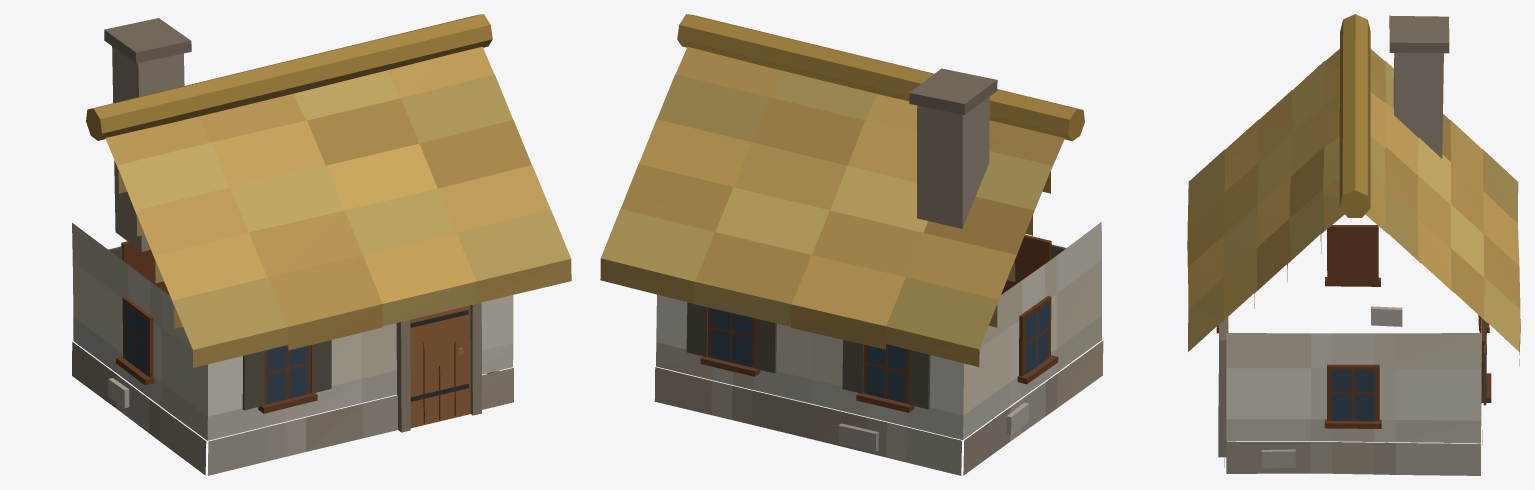
The model's file is cottage.glb.
3 renders of one model, left to right at view 1: azimuth 30°, elevation 25°; view 2: azimuth 150°, elevation 25°; view 3: azimuth 270°, elevation 25°, orthographic. The views are drawn at different scales.
Visible parts, largest first — view 1: buildings/cottage; view 2: buildings/cottage; view 3: buildings/cottage.
Boxes of the visible parts, left/top/right/bottom form: buildings/cottage: left=72, top=14, right=571, bottom=475; buildings/cottage: left=600, top=14, right=1103, bottom=475; buildings/cottage: left=1187, top=14, right=1520, bottom=475.
Size of the model in its own units: 5.91 by 5.13 by 4.72.
